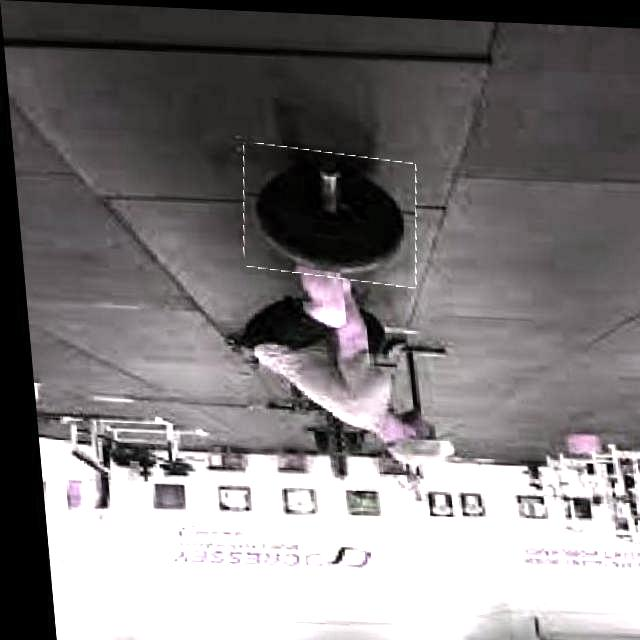barbell: (235, 143, 420, 282)
